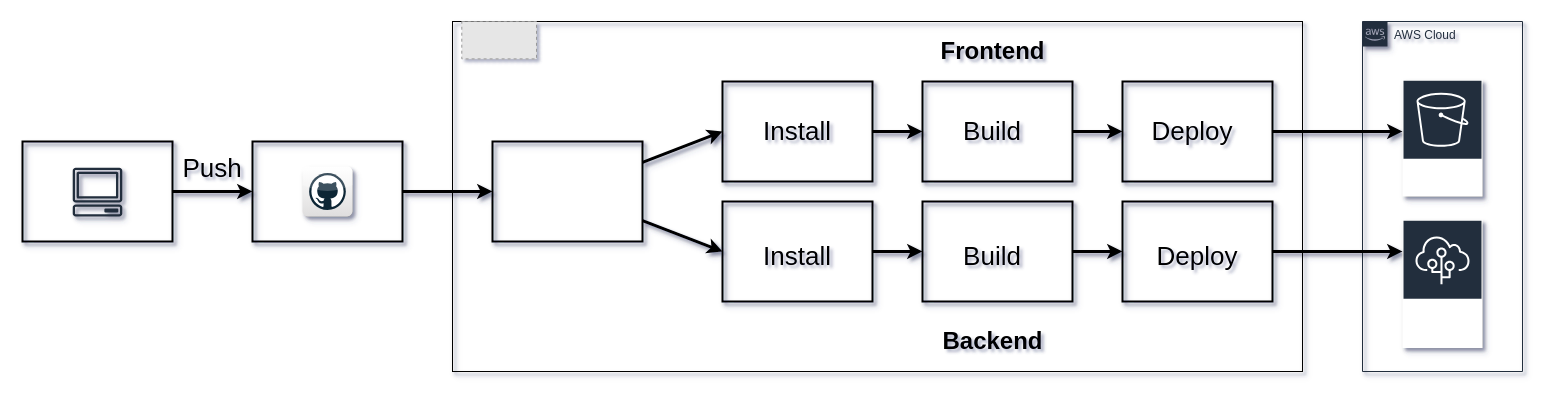
The diagram is 1552 pixels wide and 402 high, and some of its shapes have lost their labels. Grey dashed boxes stand in for pictures. Each missing label, with the centre of its shape:
Amazon S3: (x=1443, y=139)
AWS Elastic Beanstalk: (x=1443, y=285)
Setup environment: (x=568, y=192)
